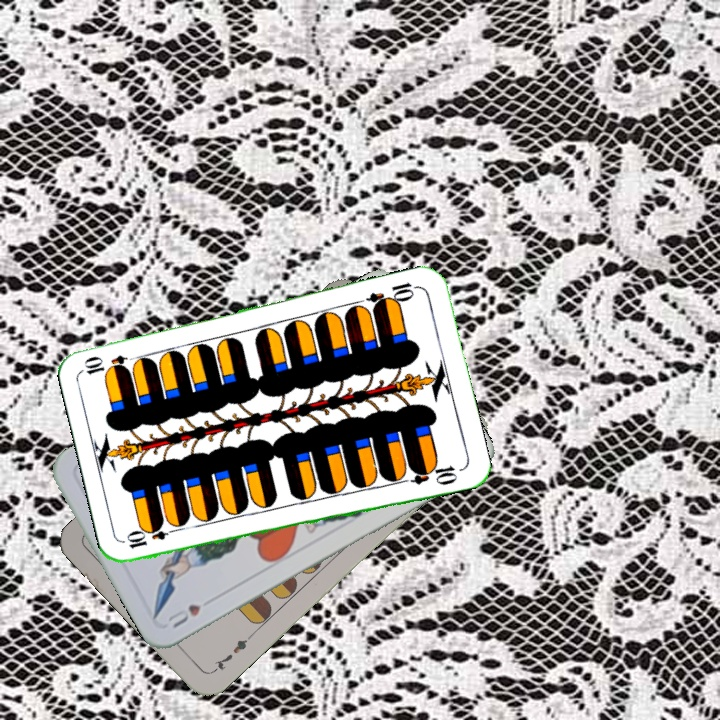E10: (363, 278, 422, 312), (122, 522, 181, 551)
E7: (208, 630, 255, 676)
HU: (163, 600, 204, 631)
